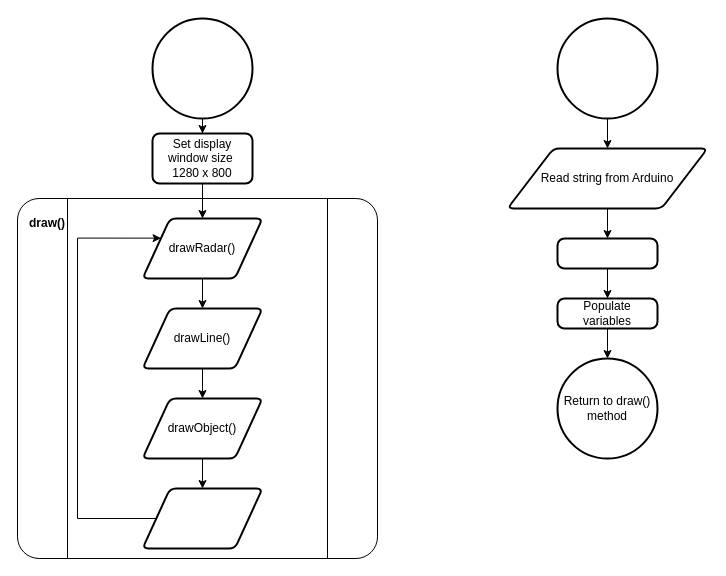
This 726x576 diagram has some shape labels left out. The box of each missing label's shape, as (x1, y1, x2, y2) in pixels:
drawText(): (141, 487, 263, 549)
Parse read data: (556, 237, 658, 269)
serialEvent: (556, 17, 658, 119)
START: (151, 17, 253, 119)
